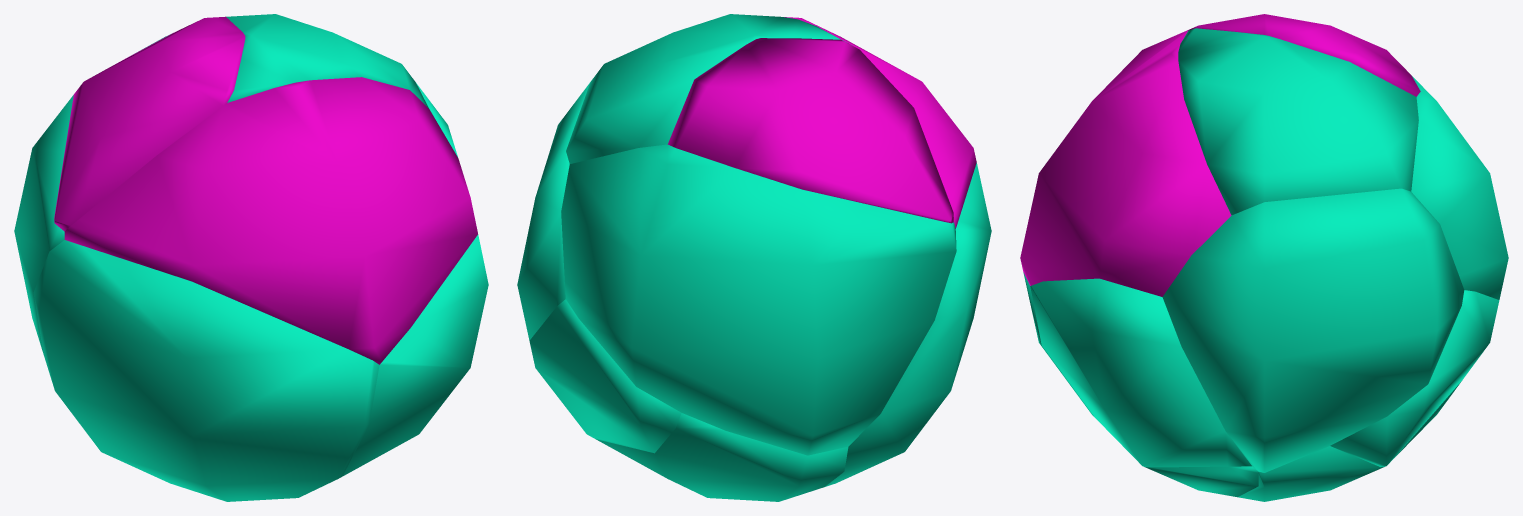
Rendered from sh_generic_a001.fbx.
The picture shows the model from 3 angles, left to right: view 1: azimuth 30°, elevation 25°; view 2: azimuth 150°, elevation 25°; view 3: azimuth 270°, elevation 25°; orthographic projection.
Visible parts, largest first — view 1: sh_generic_a.001, sh_generic_a.007, sh_generic_a.009, sh_generic_a.006, sh_generic_a.002, sh_generic_a; view 2: sh_generic_a, sh_generic_a.009, sh_generic_a.002, sh_generic_a.007, sh_generic_a.005, sh_generic_a.003, sh_generic_a.008, sh_generic_a.001; view 3: sh_generic_a.008, sh_generic_a.001, sh_generic_a.002, sh_generic_a.006, sh_generic_a, sh_generic_a.003, sh_generic_a.009, sh_generic_a.005, sh_generic_a.004.
Part boxes in pixels (x1,y1,x2,y2): sh_generic_a.001: [64, 77, 477, 364]; sh_generic_a.007: [33, 240, 379, 501]; sh_generic_a.009: [54, 16, 245, 231]; sh_generic_a.006: [343, 234, 488, 475]; sh_generic_a.002: [226, 14, 428, 108]; sh_generic_a: [14, 34, 170, 352]; sh_generic_a: [561, 144, 956, 455]; sh_generic_a.009: [667, 38, 953, 223]; sh_generic_a.002: [566, 14, 852, 163]; sh_generic_a.007: [825, 163, 991, 486]; sh_generic_a.005: [596, 413, 848, 501]; sh_generic_a.003: [529, 299, 681, 453]; sh_generic_a.008: [517, 82, 590, 340]; sh_generic_a.001: [784, 17, 976, 228]; sh_generic_a.008: [1162, 188, 1464, 472]; sh_generic_a.001: [1020, 30, 1231, 296]; sh_generic_a.002: [1178, 28, 1418, 215]; sh_generic_a.006: [1030, 278, 1251, 467]; sh_generic_a: [1411, 76, 1508, 299]; sh_generic_a.003: [1330, 290, 1499, 466]; sh_generic_a.009: [1188, 14, 1420, 96]; sh_generic_a.005: [1238, 380, 1462, 501]; sh_generic_a.004: [1145, 466, 1258, 497].
Bounding box in the file's own units: 33.42 × 33.42 × 33.42.
